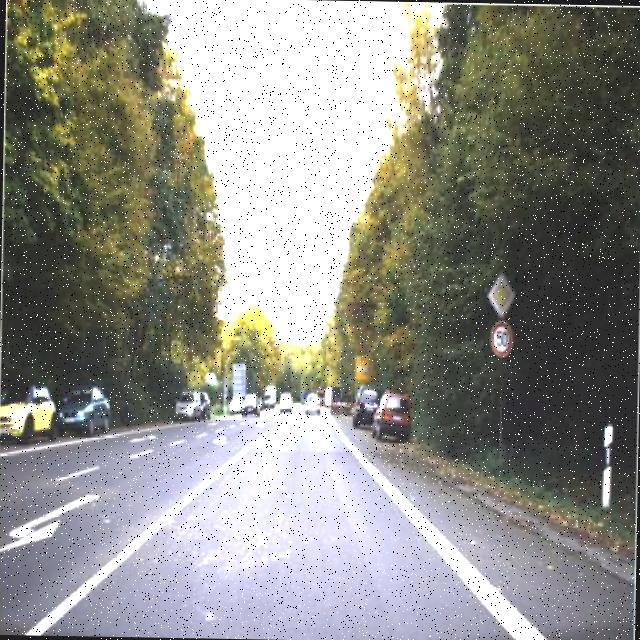Ograniczenie predkosci do 50: (488, 318, 514, 360)
